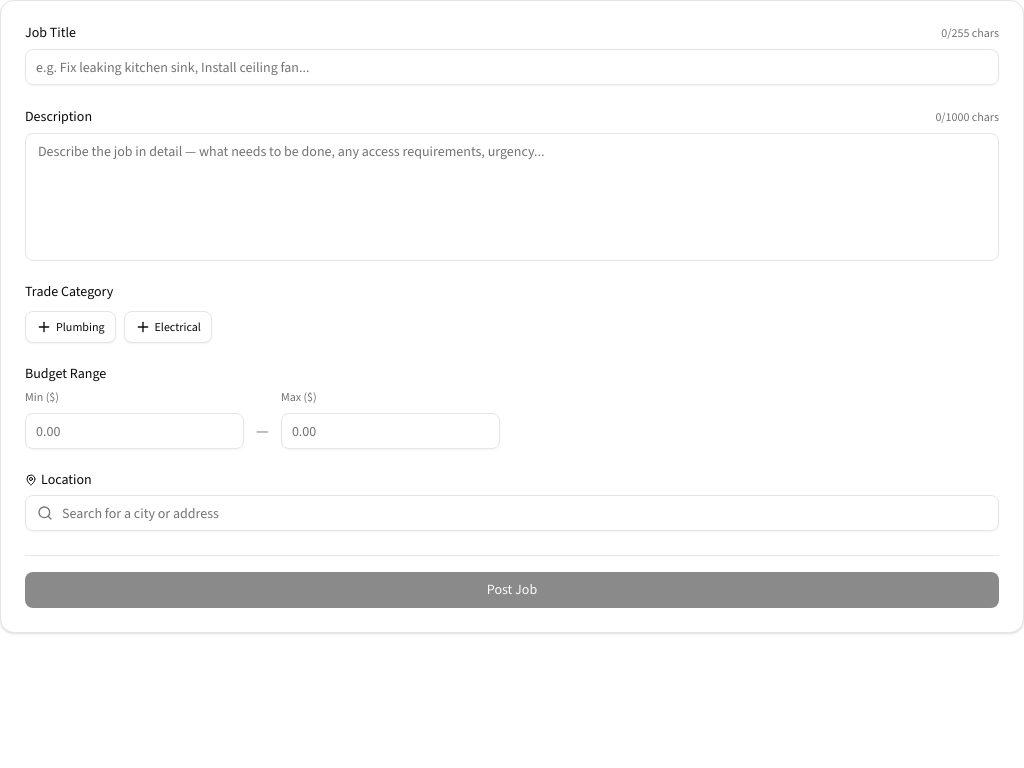
it: JobCreateForm › location field › shows coordinates hint after selecting a location
Type "New York" into the dropdown at (512, 513), box [25,495,999,531]
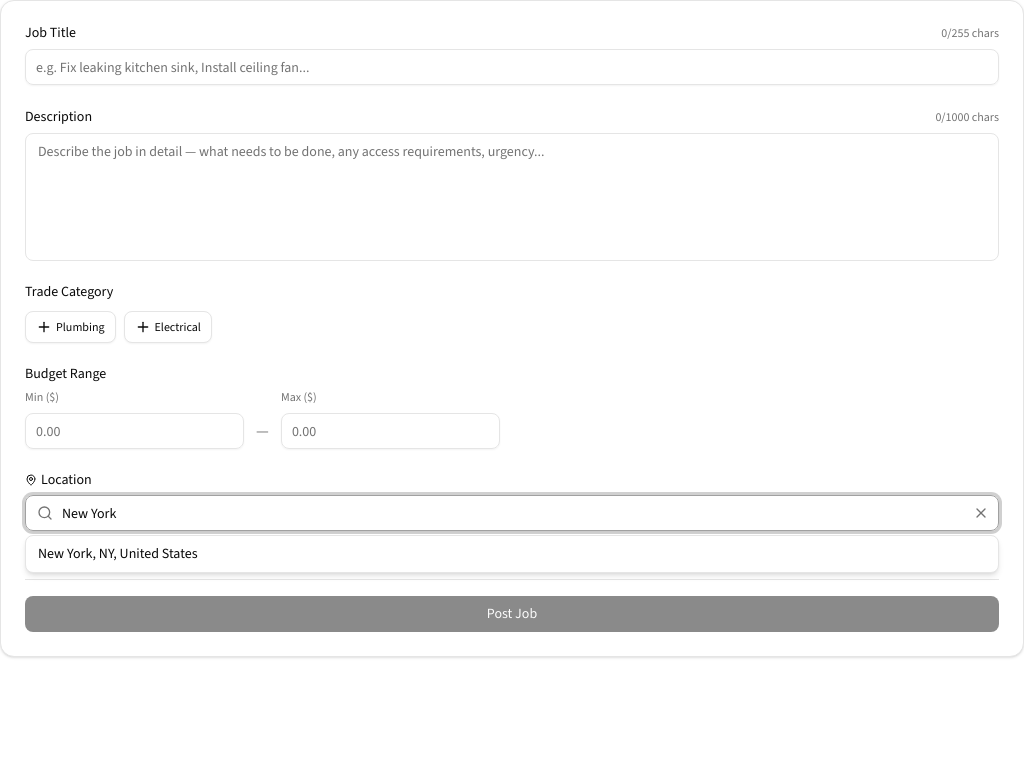
Click the option "New York, NY, United States" at (118, 554), box [26,536,998,572]
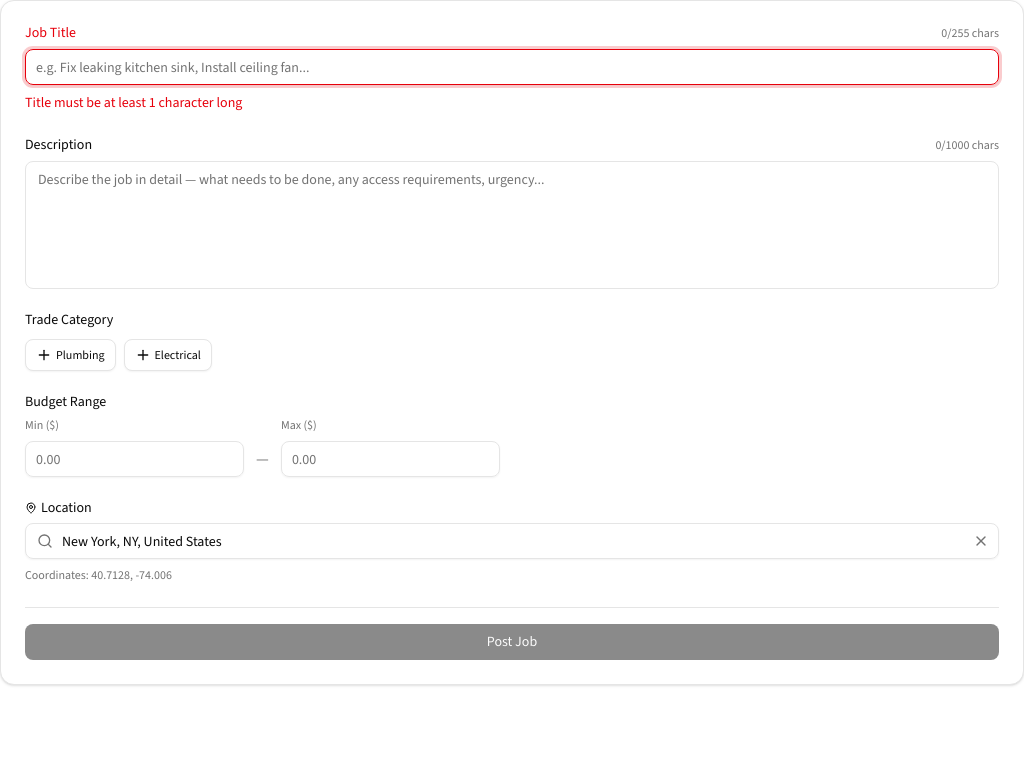
Now the text "Coordinates: 40.7128, -74.006" is shown, box [25,567,172,583]
